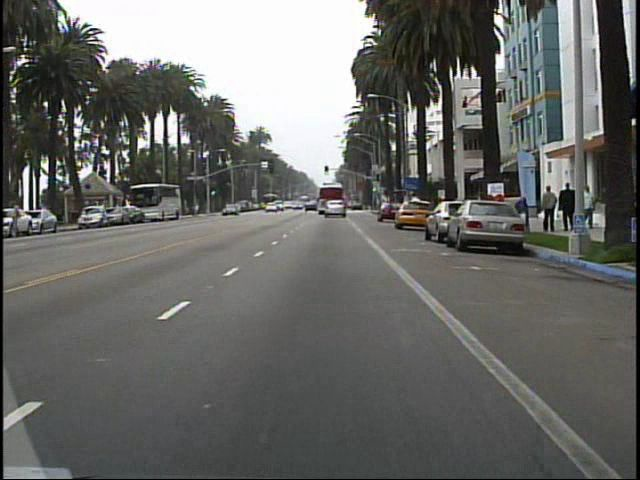person: (556, 178, 576, 233), (539, 183, 557, 235), (580, 181, 598, 232)
